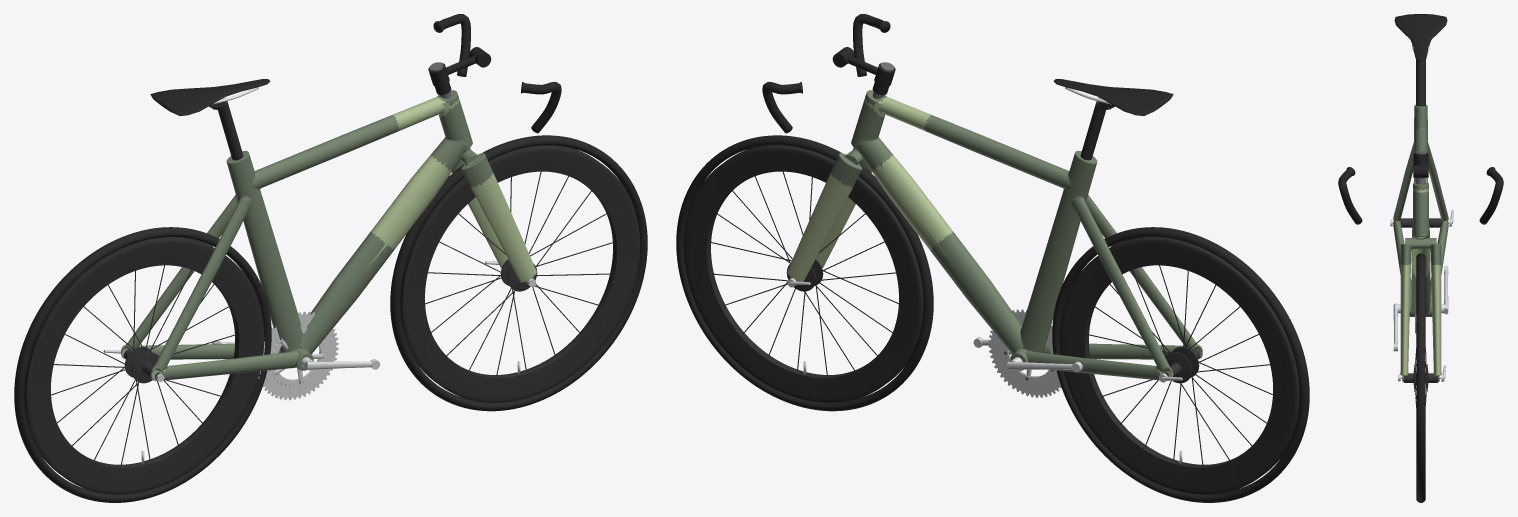
File: bike_web_raw.glb
The picture shows the model from 3 angles, left to right: view 1: azimuth 30°, elevation 25°; view 2: azimuth 150°, elevation 25°; view 3: azimuth 270°, elevation 25°; orthographic projection. The views are drawn at different scales.
Parts seen in each view (by area): view 1: frame, rim_rear, rim_front, tyre_rear, tyre_front, fork, spokes_front, chainrings, spokes_rear, saddle, dropbar, stem (+3 smaller); view 2: frame, rim_rear, rim_front, tyre_rear, tyre_front, fork, spokes_front, spokes_rear, saddle, chainrings, dropbar, stem (+3 smaller); view 3: frame, fork, tyre_front, saddle, dropbar, crank_arms, stem, seatpost, hub_front, hub_rear.
Part boxes in pixels (x1,y1,x2,y2): frame: (121,90,472,380); rim_rear: (24,237,264,494); rim_front: (400,145,640,402); tyre_rear: (14,227,271,502); tyre_front: (390,135,647,411); fork: (452,147,536,283); spokes_front: (425,171,614,375); chainrings: (258,311,338,400); spokes_rear: (51,265,236,465); saddle: (150,79,270,115); dropbar: (433,14,561,133); stem: (428,47,491,98); frame: (851,90,1202,380); rim_rear: (1059,237,1299,494); rim_front: (683,145,923,402); tyre_rear: (1052,227,1309,502); tyre_front: (676,135,933,411); fork: (787,147,871,281); spokes_front: (710,171,898,375); spokes_rear: (1087,265,1272,465); saddle: (1053,79,1173,115); chainrings: (988,309,1061,397); dropbar: (762,14,890,133); stem: (832,47,895,98); frame: (1393,105,1448,316); fork: (1400,238,1441,381); tyre_front: (1416,253,1425,502); saddle: (1394,14,1447,60); dropbar: (1338,167,1503,224); crank_arms: (1393,266,1448,351); stem: (1413,151,1428,184); seatpost: (1416,59,1425,106); hub_front: (1402,364,1439,391); hub_rear: (1400,218,1441,227).
Bounding box in the file's own units: 1.66 × 0.9827 × 0.4466.
